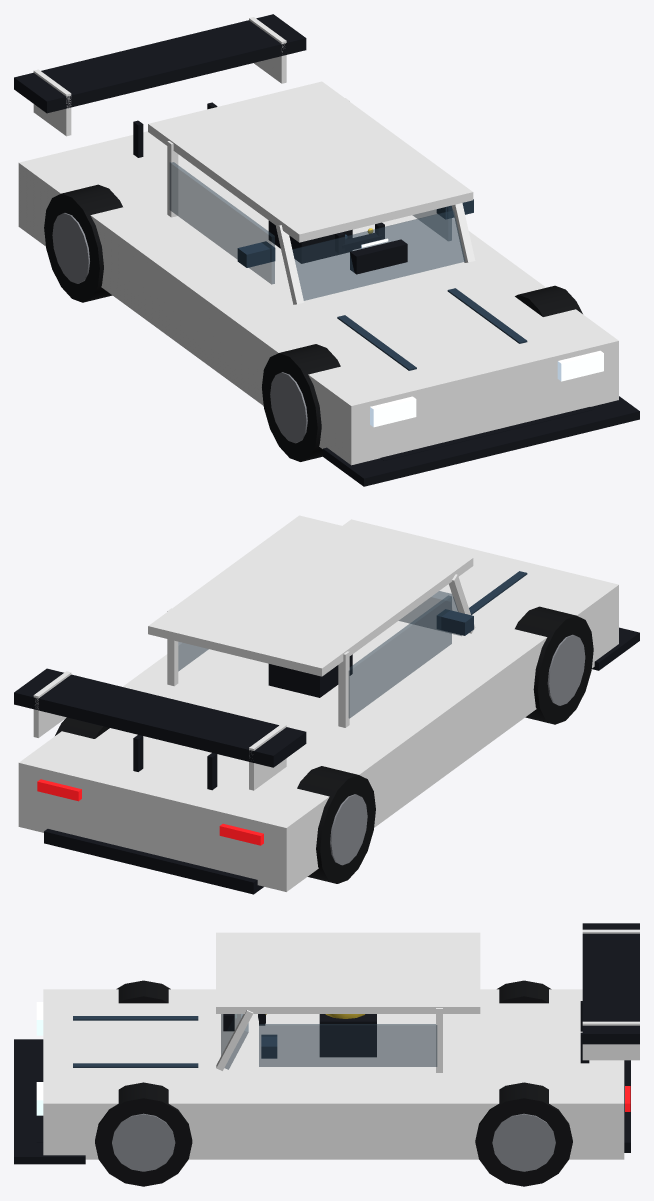
The picture shows the model from 3 angles, top to bottom: view 1: azimuth 30°, elevation 25°; view 2: azimuth 150°, elevation 25°; view 3: azimuth 270°, elevation 25°; orthographic projection. The views are drawn at different scales.
Visible parts, largest first — view 1: body, roof, rear-wing, windscreen, splitter, side-window--1, tyre--1--1, tyre--1-1, rim--1-1, rim--1--1, dashboard, seat (+13 smaller); view 2: body, roof, rear-wing, side-window--1, tyre--1--1, tyre--1-1, floor, rim--1--1, rim--1-1, seat, windscreen, wing-endplate--1 (+9 smaller); view 3: body, roof, side-window-1, rear-wing, tyre-1-1, tyre-1--1, splitter, rim-1-1, rim-1--1, seat, wing-endplate-1, tyre--1-1 (+8 smaller).
Boxes of the visible parts, x1=… form: body: x1=18, y1=131, x2=618, y2=465; roof: x1=148, y1=81, x2=473, y2=242; rear-wing: x1=14, y1=14, x2=306, y2=113; windscreen: x1=292, y1=210, x2=465, y2=300; splitter: x1=323, y1=396, x2=639, y2=486; side-window--1: x1=169, y1=162, x2=274, y2=284; tyre--1--1: x1=44, y1=184, x2=122, y2=302; tyre--1-1: x1=262, y1=344, x2=340, y2=461; rim--1-1: x1=270, y1=372, x2=307, y2=443; rim--1--1: x1=52, y1=213, x2=89, y2=283; dashboard: x1=350, y1=239, x2=407, y2=274; seat: x1=268, y1=220, x2=352, y2=263; body: x1=18, y1=519, x2=618, y2=891; roof: x1=148, y1=515, x2=473, y2=676; rear-wing: x1=14, y1=668, x2=306, y2=767; side-window--1: x1=348, y1=595, x2=451, y2=718; tyre--1--1: x1=297, y1=766, x2=375, y2=883; tyre--1-1: x1=515, y1=606, x2=593, y2=724; floor: x1=44, y1=829, x2=263, y2=894; rim--1--1: x1=330, y1=794, x2=367, y2=865; rim--1-1: x1=547, y1=634, x2=585, y2=705; seat: x1=268, y1=654, x2=352, y2=697; windscreen: x1=399, y1=591, x2=461, y2=635; wing-endplate--1: x1=249, y1=724, x2=286, y2=790; body: x1=43, y1=989, x2=624, y2=1159; roof: x1=216, y1=932, x2=480, y2=1013; side-window-1: x1=259, y1=1024, x2=437, y2=1066; rear-wing: x1=582, y1=923, x2=639, y2=1044; tyre-1-1: x1=95, y1=1082, x2=192, y2=1186; tyre-1--1: x1=475, y1=1082, x2=572, y2=1186; splitter: x1=14, y1=1039, x2=85, y2=1164; rim-1-1: x1=112, y1=1113, x2=175, y2=1171; rim-1--1: x1=492, y1=1113, x2=555, y2=1171; seat: x1=319, y1=1014, x2=376, y2=1057; wing-endplate-1: x1=582, y1=1021, x2=639, y2=1060; tyre--1-1: x1=116, y1=980, x2=170, y2=1003.
Size of the model in its own units: 1.96 by 1.21 by 4.36.
